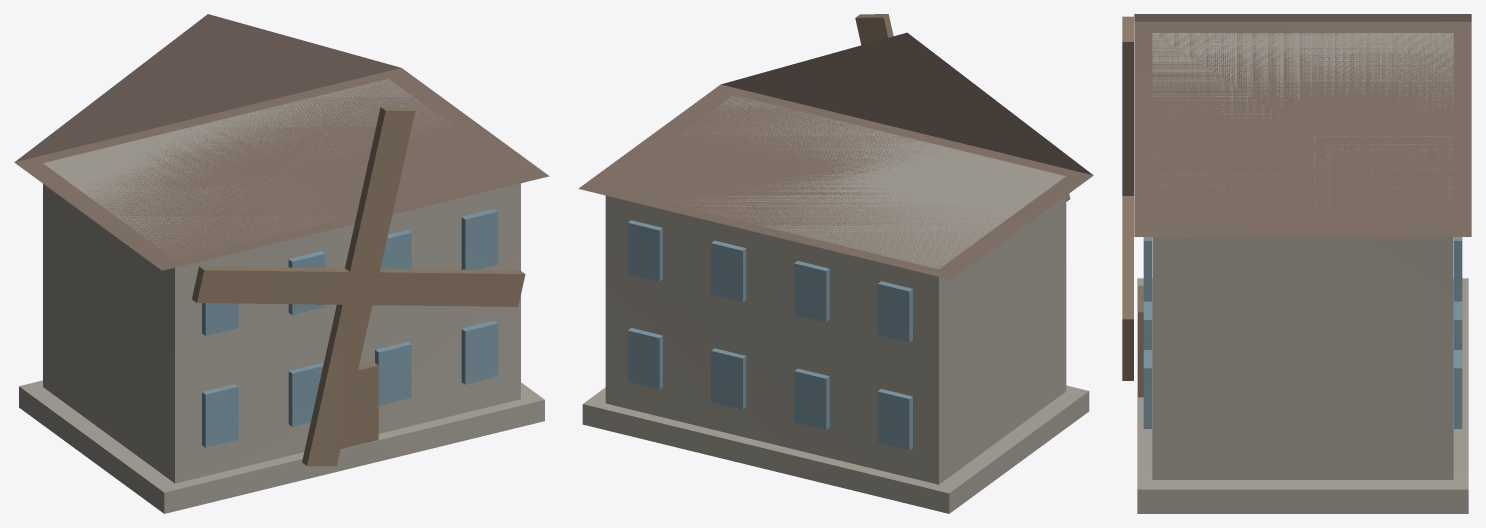
The model's file is windmill-02.glb.
3 renders of one model, left to right at view 1: azimuth 30°, elevation 25°; view 2: azimuth 150°, elevation 25°; view 3: azimuth 270°, elevation 25°, orthographic. The views are drawn at different scales.
Parts seen in each view (by area): view 1: world; view 2: world; view 3: world.
Boxes of the visible parts, x1,y1,x2,y2 form: world: (14, 14, 549, 513); world: (578, 14, 1093, 513); world: (1122, 14, 1471, 513).
Size of the model in its own units: 1.52 by 1.34 by 1.04.
